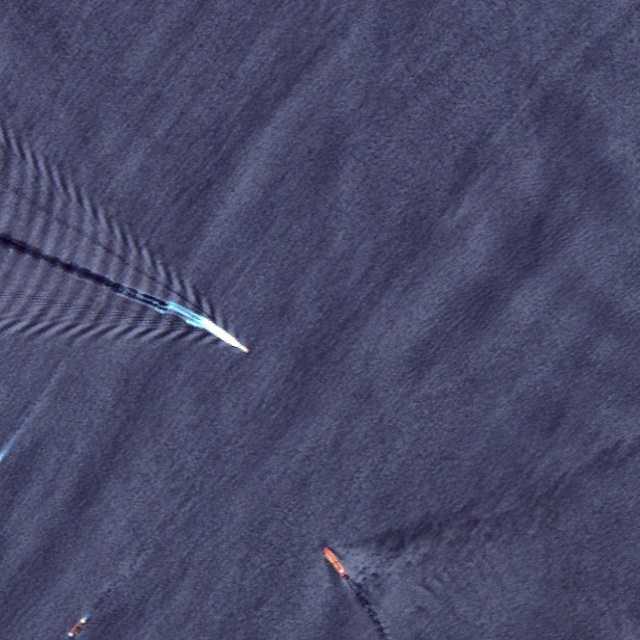wake: (53, 200, 288, 405)
